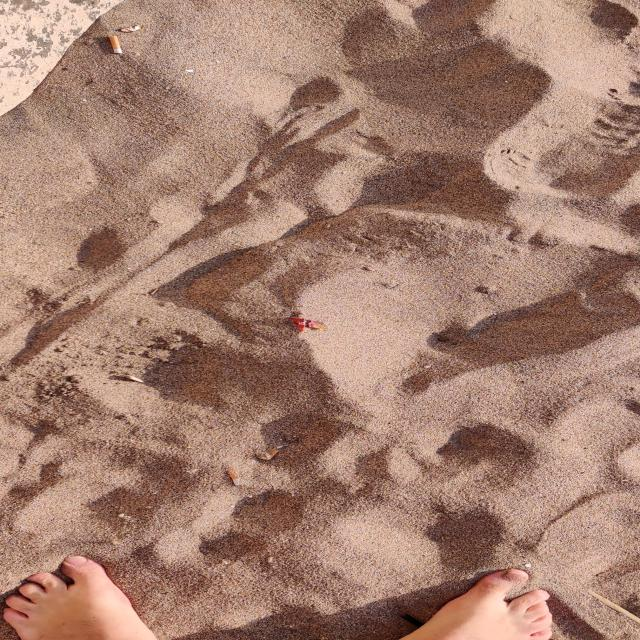litter: (292, 318, 328, 330), (227, 469, 242, 486), (259, 448, 280, 460), (109, 36, 122, 54)
